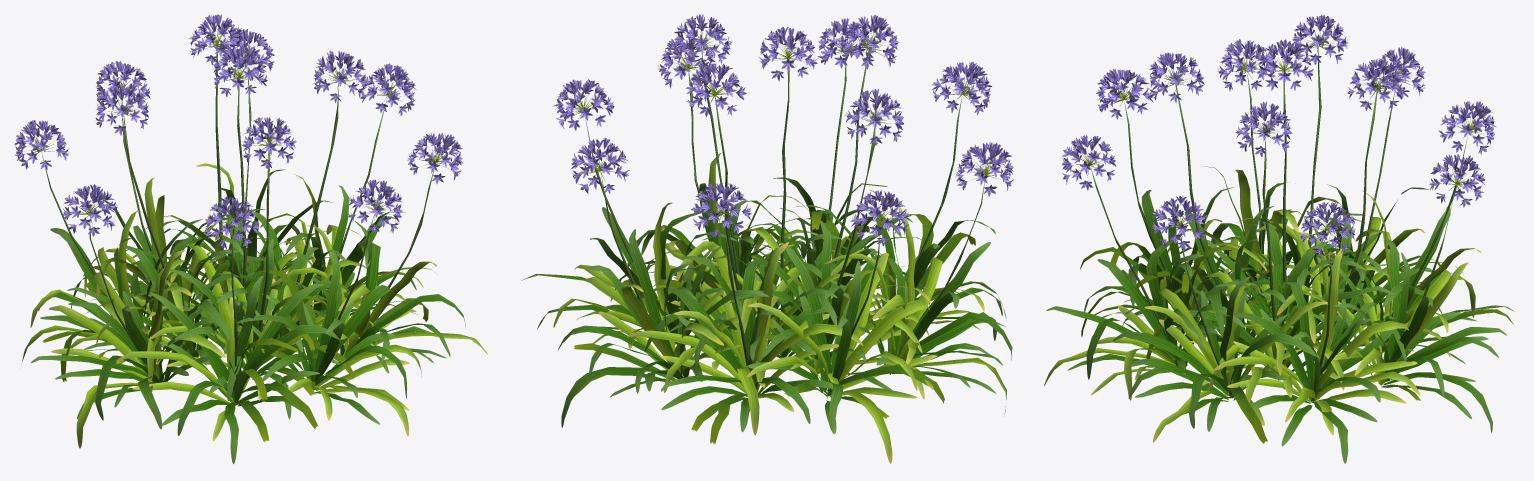
Rendered from agapanthus_01.glb.
3 views of the same model, side by side, from view 1: azimuth 30°, elevation 25°; view 2: azimuth 150°, elevation 25°; view 3: azimuth 270°, elevation 25° (orthographic). The views are drawn at different scales.
Parts seen in each view (by area): view 1: Agapanthus_a__A001; view 2: Agapanthus_a__A001; view 3: Agapanthus_a__A001.
Boxes of the visible parts, x1,y1,x2,y2 form: Agapanthus_a__A001: [14, 14, 487, 464]; Agapanthus_a__A001: [521, 14, 1013, 463]; Agapanthus_a__A001: [1044, 14, 1514, 463].
Size of the model in its own units: 1.39 by 1.09 by 1.35.
7 materials, 7 textured.
